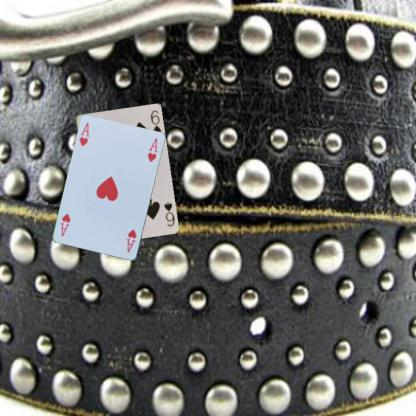6s: (161, 199, 176, 228)
Ah: (77, 120, 91, 148), (124, 227, 138, 254)
